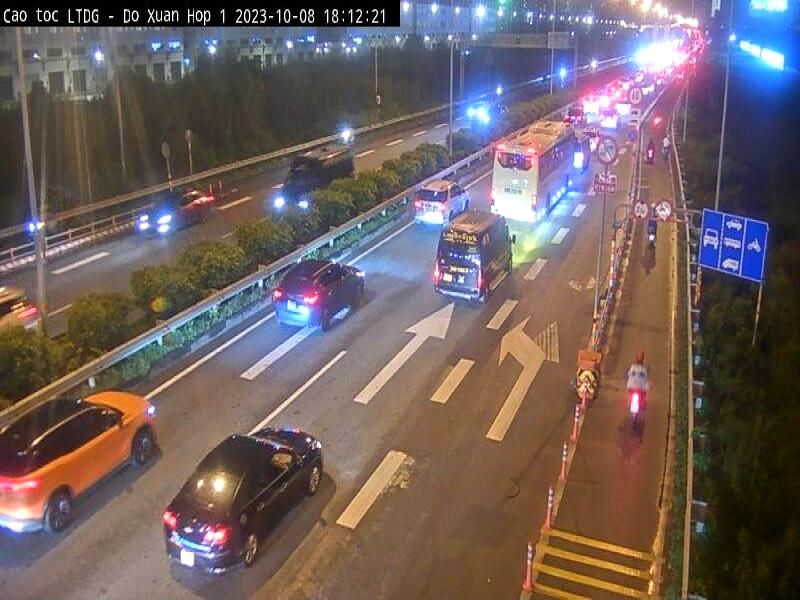bus: (493, 121, 579, 219)
car: (164, 424, 322, 571), (434, 208, 517, 307), (273, 256, 364, 334), (272, 147, 358, 217), (416, 178, 470, 224)
motorcycle: (0, 393, 162, 538), (139, 188, 218, 235), (1, 277, 43, 340), (626, 390, 646, 430)
